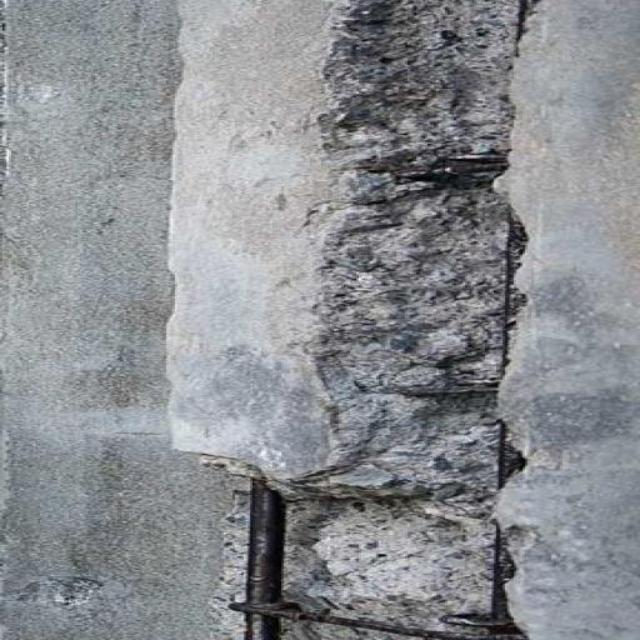D0w0: (238, 0, 533, 639)
